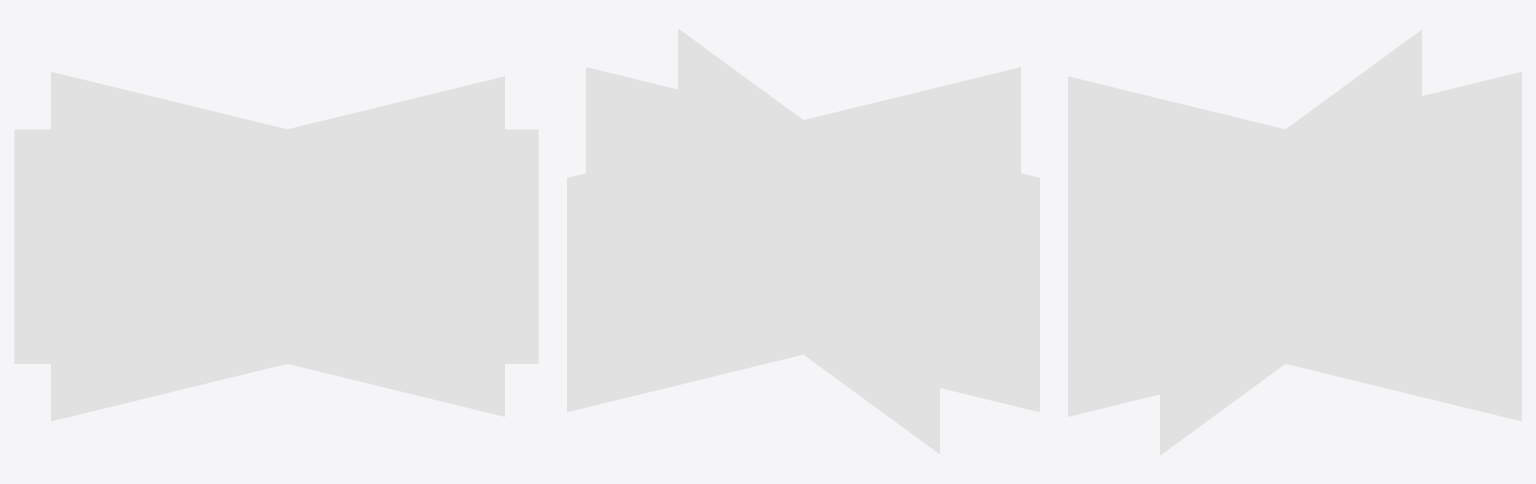
File: Grass.fbx
The picture shows the model from 3 angles, left to right: view 1: azimuth 30°, elevation 25°; view 2: azimuth 150°, elevation 25°; view 3: azimuth 270°, elevation 25°; orthographic projection.
Visible parts, largest first — view 1: Grass; view 2: Grass; view 3: Grass.
Part boxes in pixels (left/top/right/bottom): Grass: left=14, top=71, right=538, bottom=421; Grass: left=567, top=28, right=1039, bottom=454; Grass: left=1068, top=30, right=1521, bottom=455.
Bounding box in the file's own units: 91.99 × 45.42 × 79.66.
